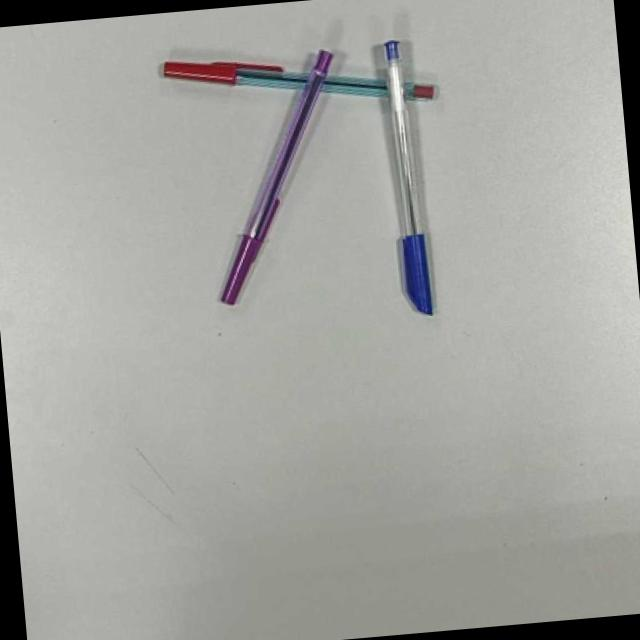caneta: (218, 48, 337, 308), (373, 41, 432, 317), (162, 55, 435, 100)
